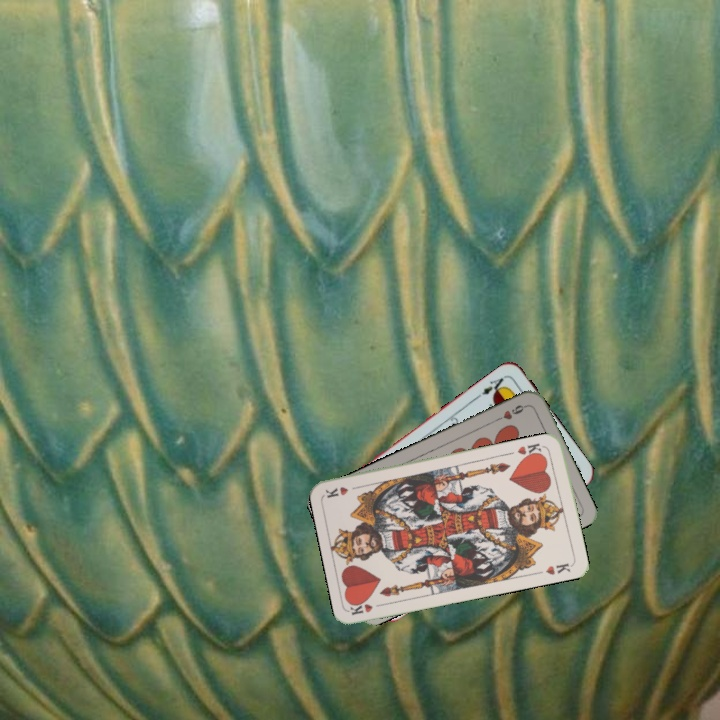EA: (477, 372, 509, 398)
H9: (492, 401, 530, 424)
HK: (347, 597, 388, 618), (513, 439, 548, 461)
